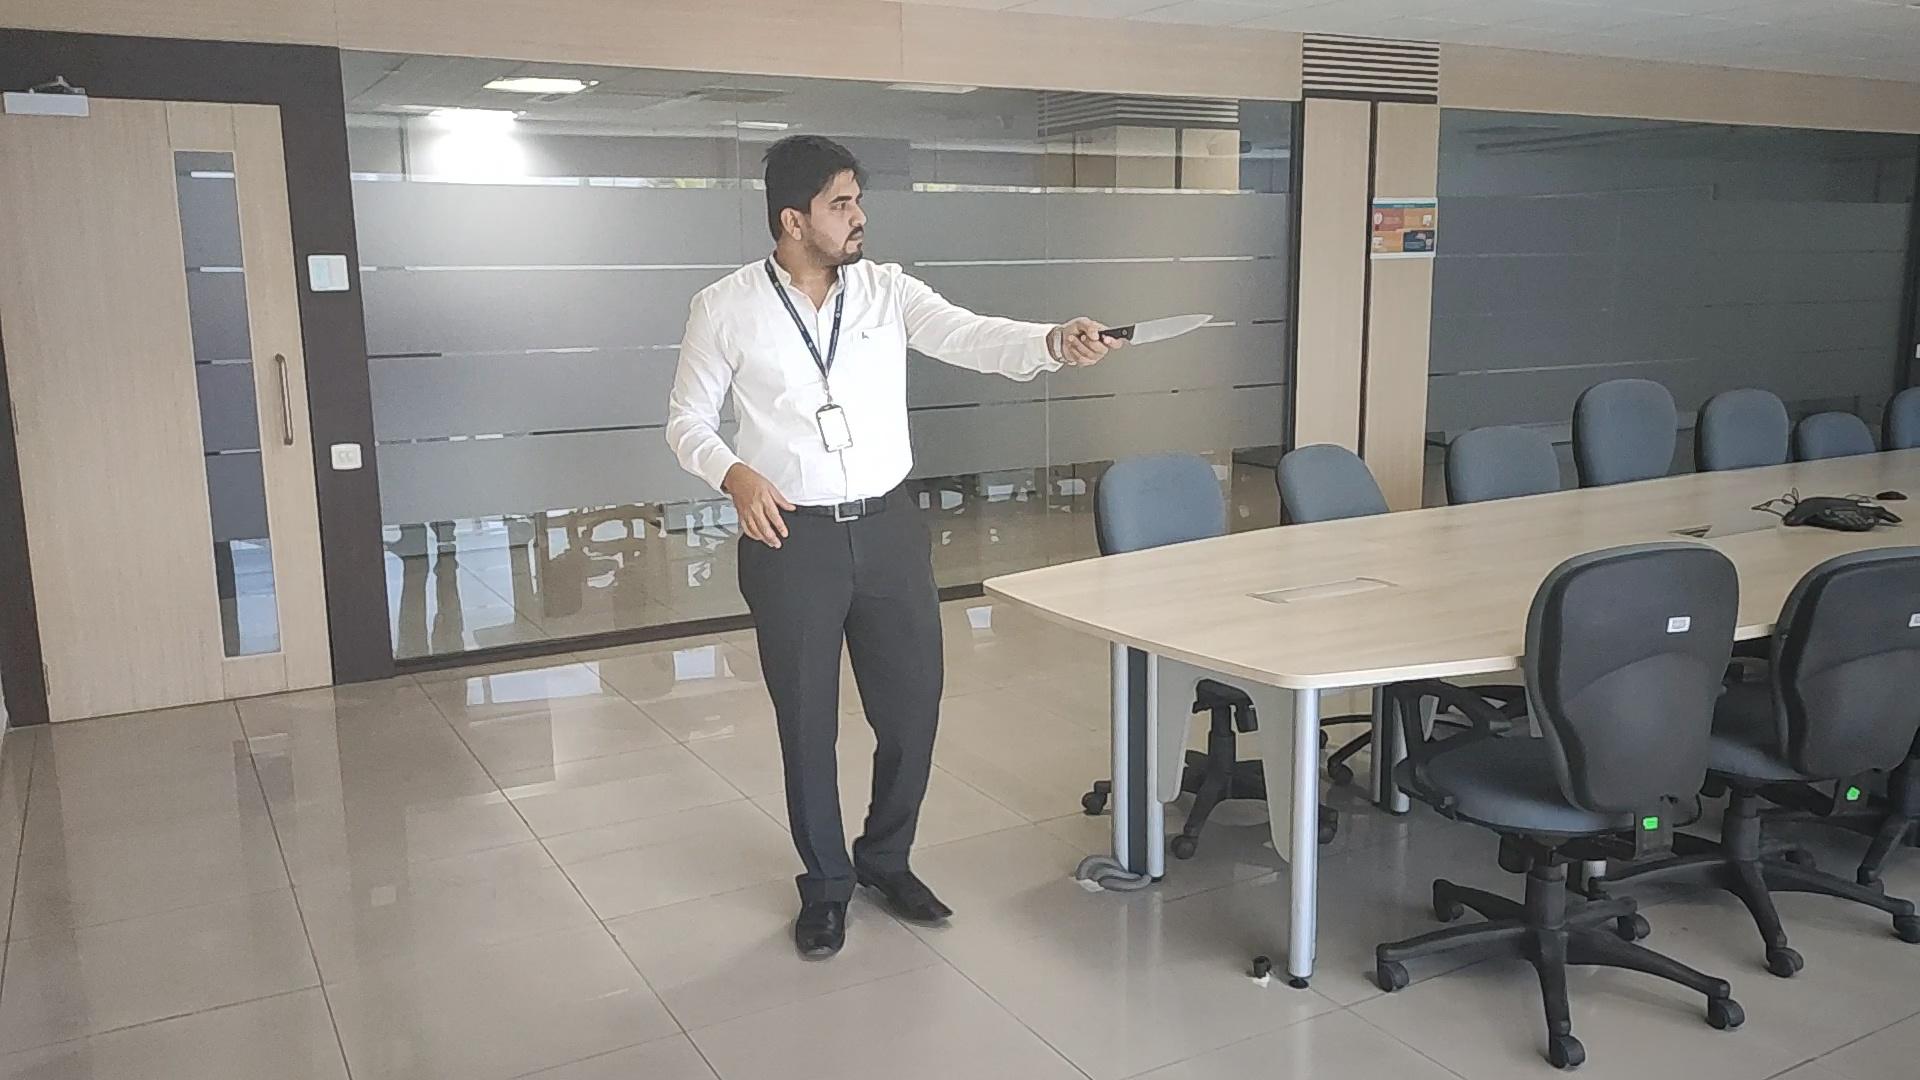knife: (1124, 313, 1215, 347)
